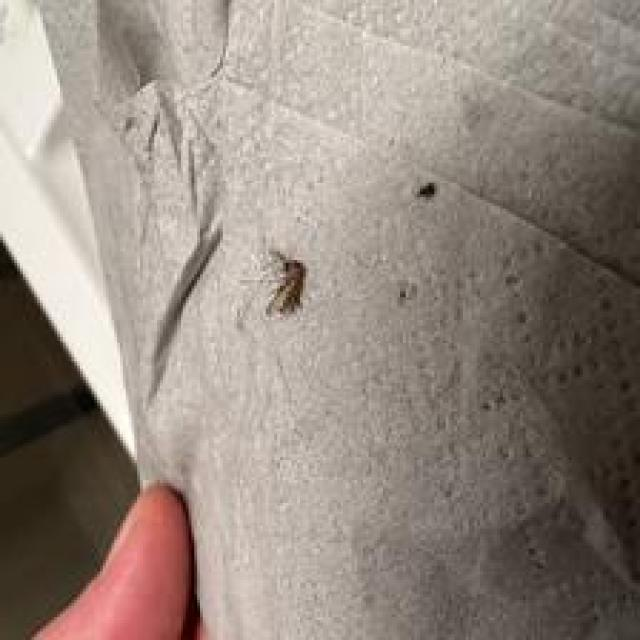Culex: (263, 254, 308, 317)
